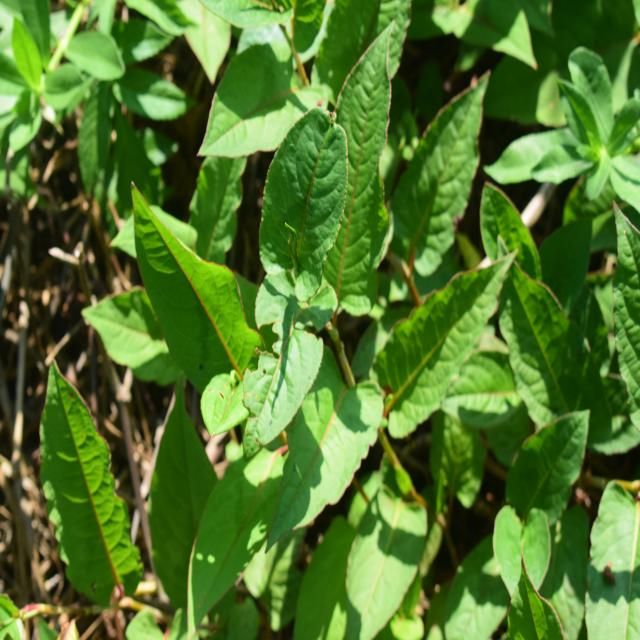Chinese_knotweed: (134, 81, 471, 528)
